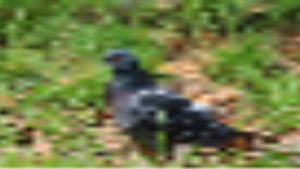pigeon: (98, 47, 239, 157)
